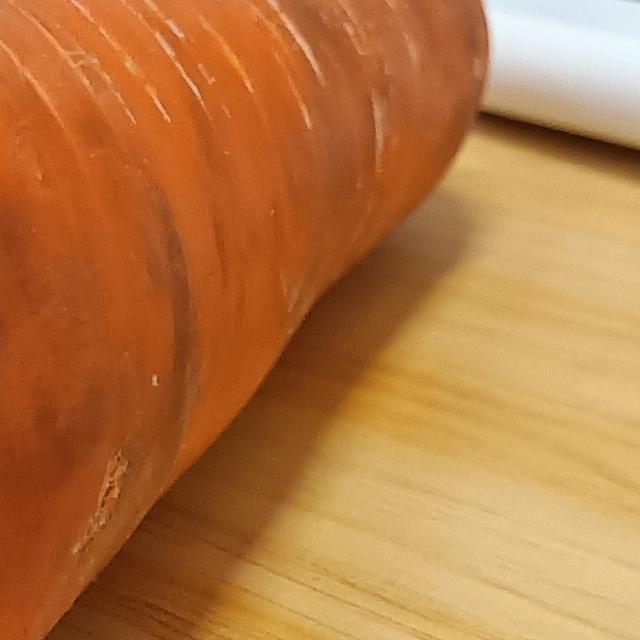carrot: (1, 1, 496, 640)
